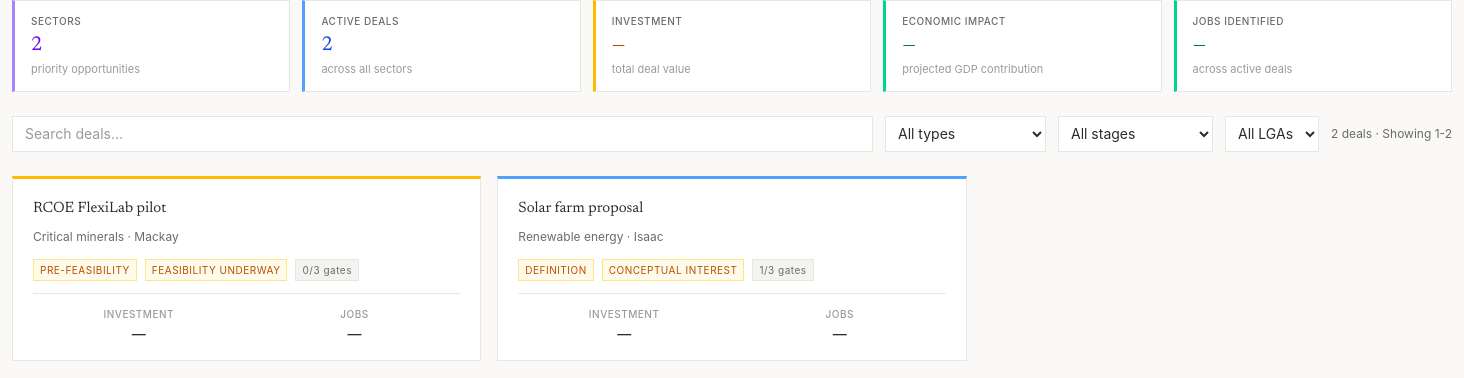
Scenario: DealsSearch › shows no matches message when filter has no results
In the search field with test id "deals-search-input": point(442, 134) x1=12 y1=116 x2=873 y2=152, type "xyz-nonexistent"
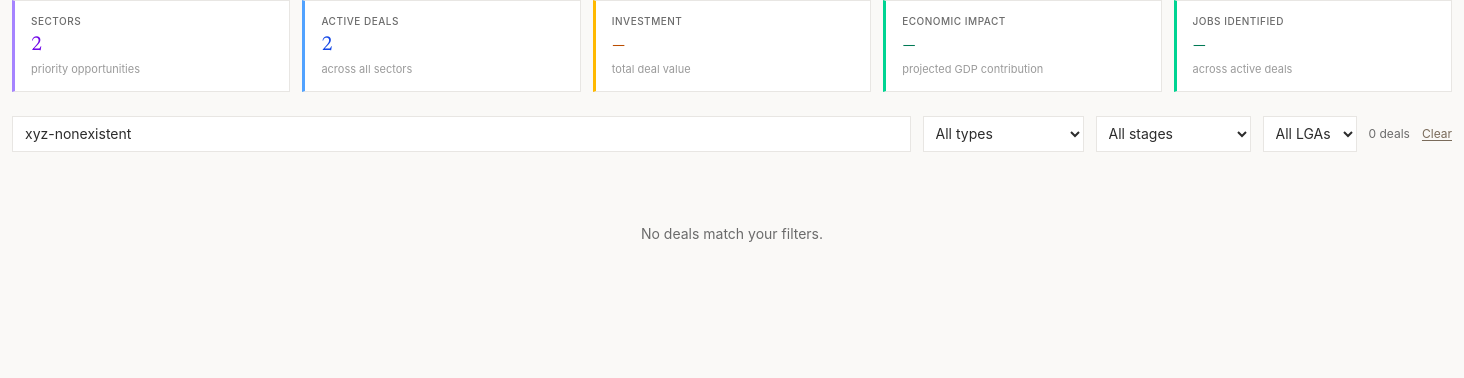
expect the text "No deals match your filters." is shown: met, box x1=641 y1=225 x2=823 y2=242
